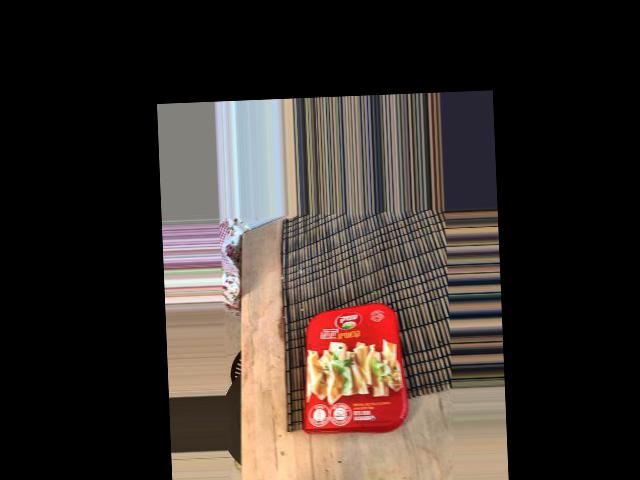cheese: (314, 264, 450, 357)
